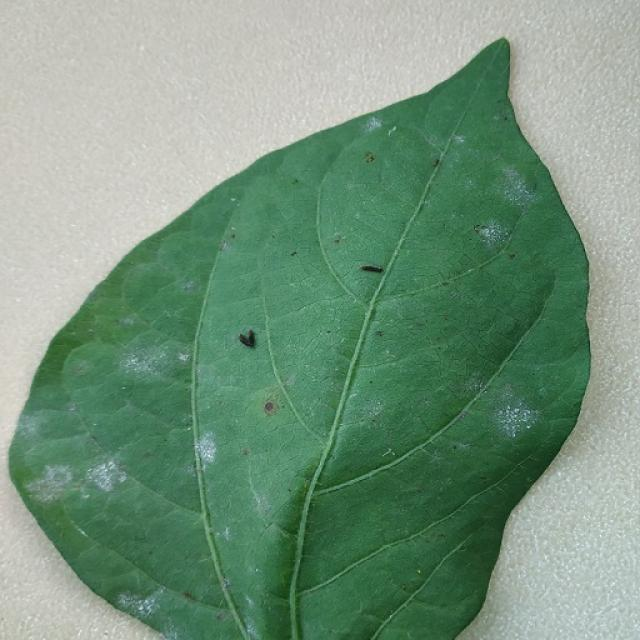Blackgram: (10, 39, 589, 639)
Powdery_Mildew: (192, 427, 236, 475), (123, 343, 171, 377), (84, 458, 126, 494), (496, 400, 536, 435), (35, 464, 75, 498), (352, 394, 389, 427), (17, 411, 53, 443), (500, 164, 532, 197), (258, 385, 285, 418), (250, 488, 274, 519), (478, 223, 505, 245), (463, 370, 487, 393), (135, 596, 157, 618), (449, 407, 471, 427), (444, 285, 467, 304), (117, 592, 138, 609), (244, 617, 260, 639), (239, 328, 257, 347), (73, 360, 91, 375), (453, 439, 473, 452), (365, 116, 382, 131), (360, 264, 384, 273), (218, 526, 231, 542), (284, 374, 296, 389), (182, 280, 196, 291), (120, 316, 135, 326), (67, 402, 79, 414), (216, 610, 228, 622), (452, 134, 466, 144), (77, 527, 88, 538), (221, 579, 230, 592), (492, 112, 504, 121), (387, 125, 397, 135), (191, 464, 199, 475), (220, 242, 229, 251), (183, 592, 193, 600), (365, 155, 374, 163), (415, 568, 422, 574), (390, 450, 396, 456), (230, 197, 236, 202), (255, 567, 259, 574), (187, 426, 191, 431), (121, 386, 126, 390), (93, 422, 97, 426)
